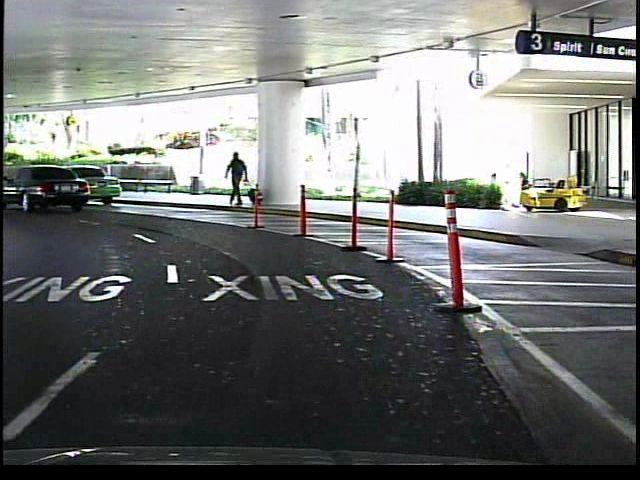person: (222, 148, 251, 212)
